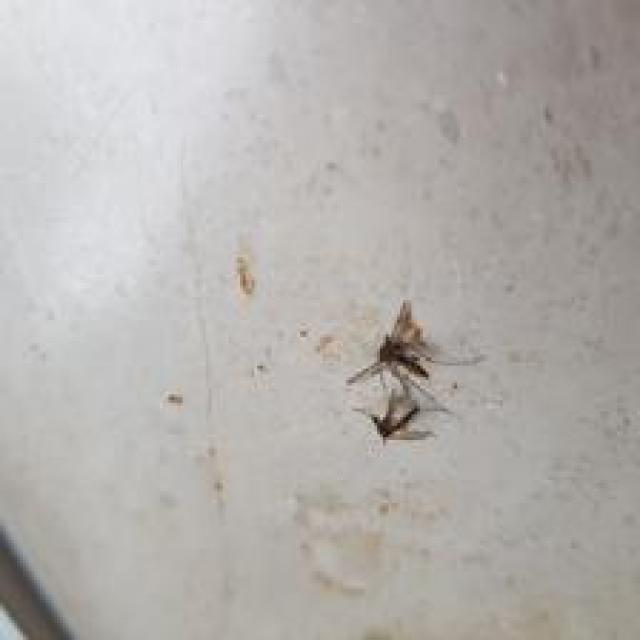Culex: (344, 297, 484, 406)
